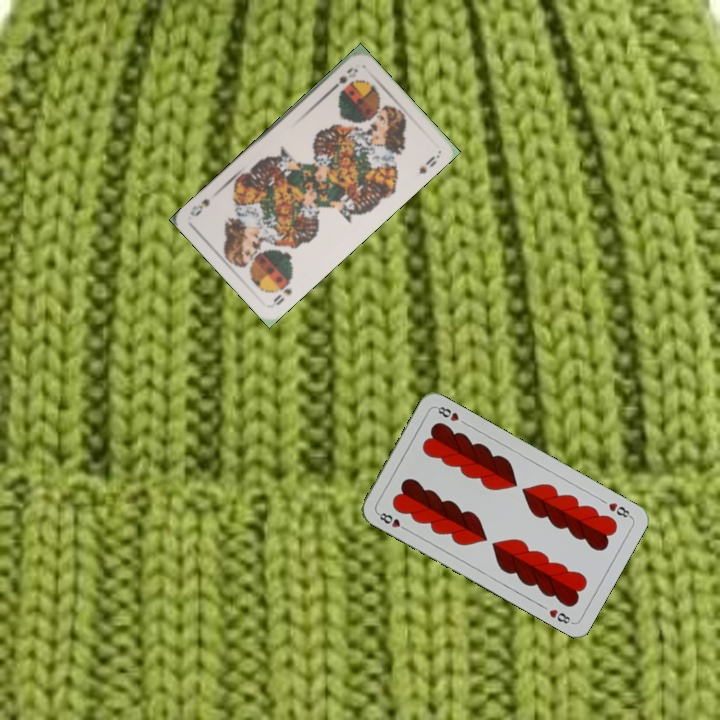H8: (373, 508, 411, 533), (604, 498, 634, 521)
SO: (327, 63, 360, 94), (268, 277, 295, 309)
